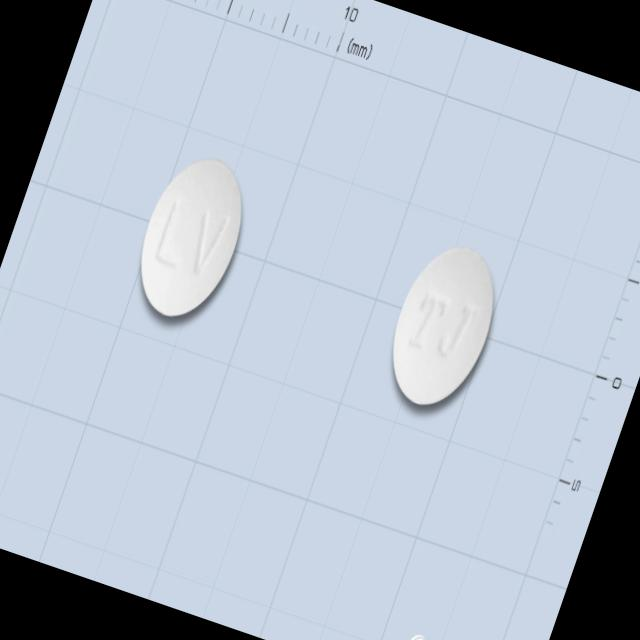TaeJoon Levofloxacin Tab: (374, 232, 514, 418), (121, 144, 261, 329)
